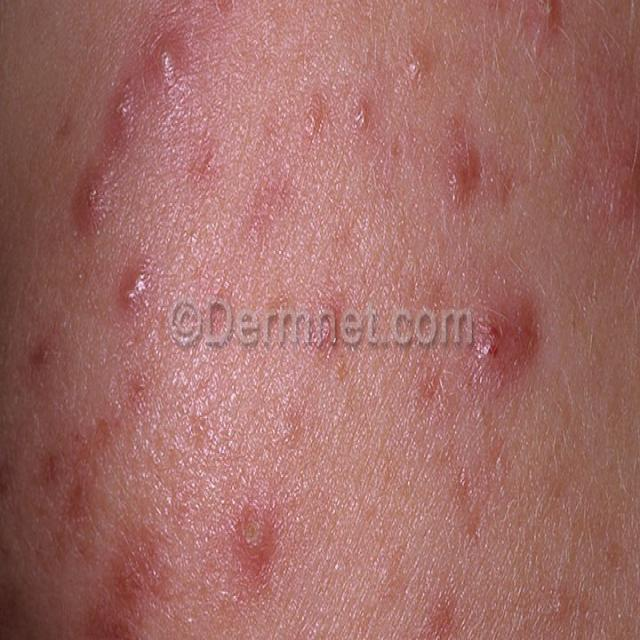Acne: (571, 32, 640, 254), (472, 284, 542, 398), (229, 488, 287, 591), (106, 522, 170, 612), (440, 127, 487, 214), (513, 0, 568, 69), (17, 317, 63, 393), (73, 158, 119, 231), (145, 25, 188, 95), (114, 252, 156, 321), (107, 78, 143, 148), (400, 40, 436, 92), (346, 90, 380, 140)
